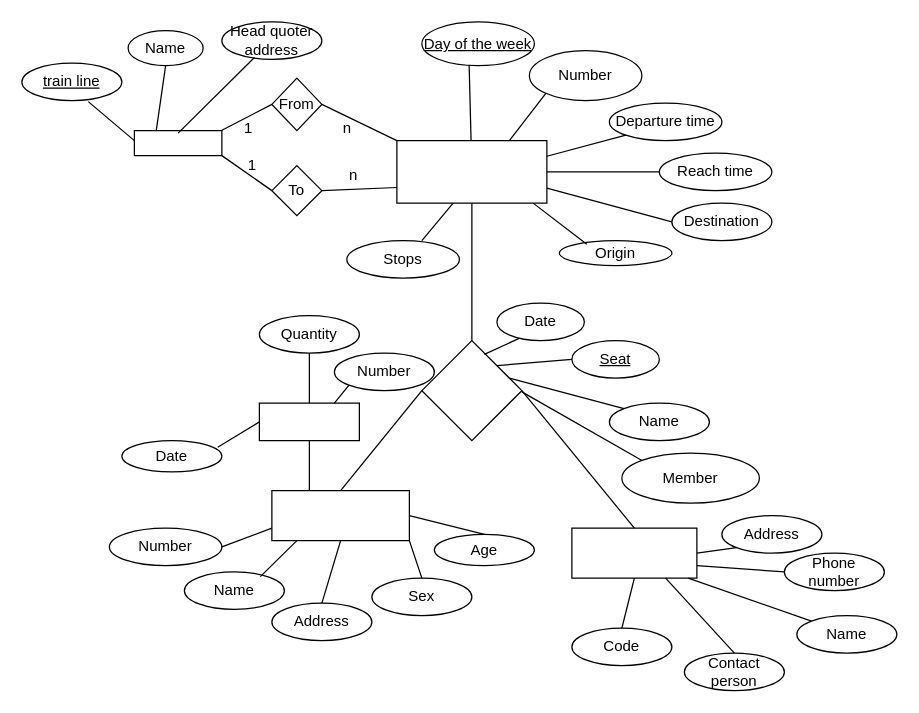
Some shapes in this 919 by 713 pixel diagram are drawn without their labels. The shapes that lost their labels are listed below. From the top down, each one's centre as x and y in pixels, then its label:
At pixel 177 142: "Trainlines".
At pixel 471 171: "schedule".
At pixel 471 390: "Reservation".
At pixel 308 421: "Miles order".
At pixel 340 515: "Passenger".
At pixel 634 552: "Travel agency".
